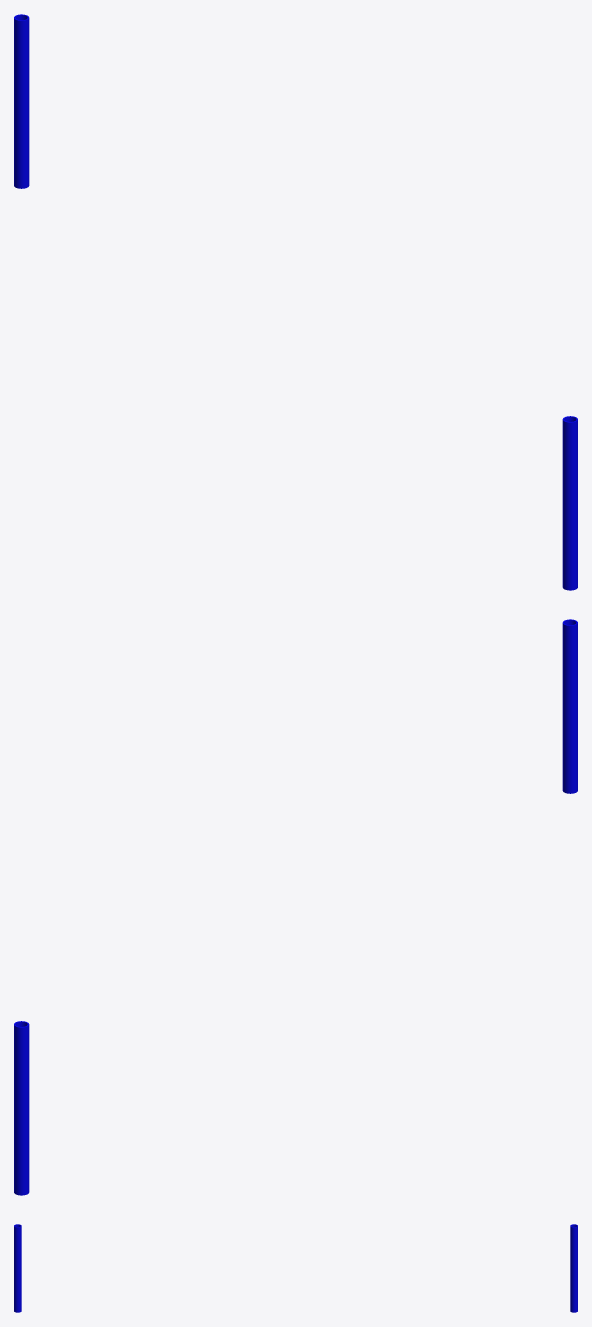
The model's file is PROPULSION__rudder assembly__SS sleeve.gltf.
3 renders of one model, top to bottom at view 1: azimuth 30°, elevation 25°; view 2: azimuth 150°, elevation 25°; view 3: azimuth 270°, elevation 25°, orthographic. The views are drawn at different scales.
Bounding box in the file's own units: 0.0635 × 0.7719 × 4.64.
